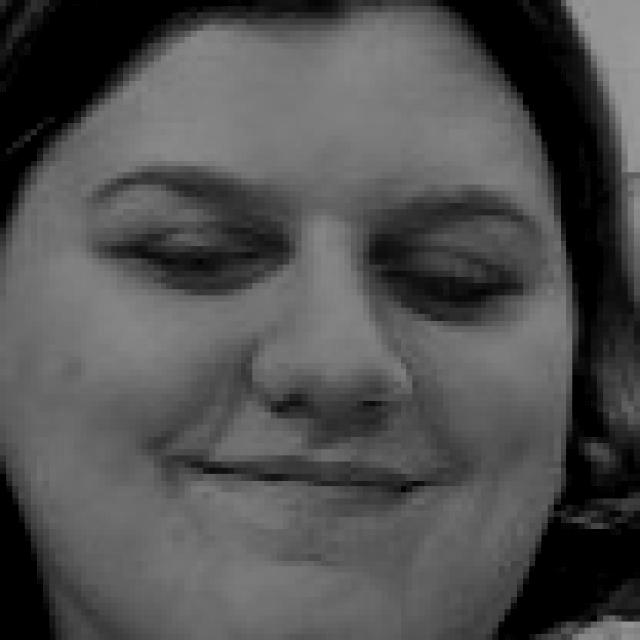real: (14, 12, 566, 632), (102, 178, 527, 332)
